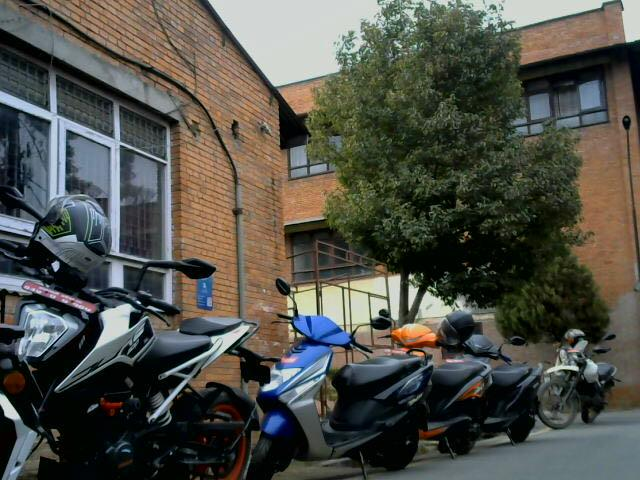Building: (1, 1, 296, 252)
Electrical Pole: (604, 106, 640, 306)
Motorcycle: (1, 177, 250, 479), (272, 266, 541, 469), (544, 319, 617, 431)
Tree: (291, 0, 589, 240)
